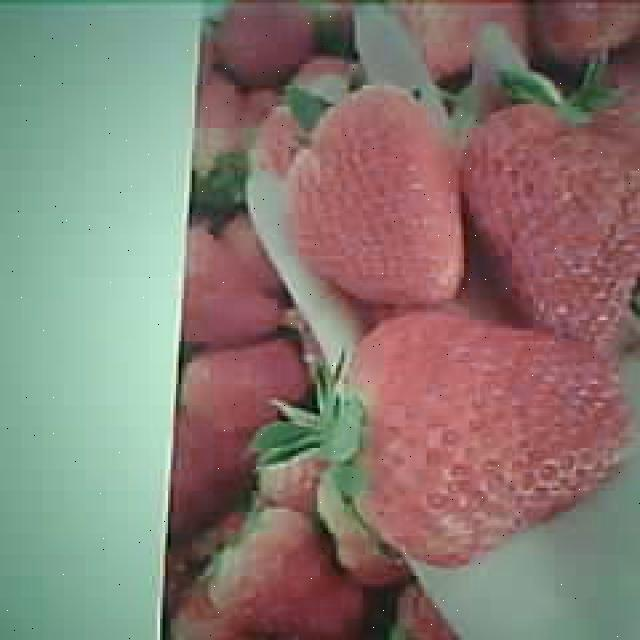ripe: (326, 311, 628, 568), (470, 96, 640, 342), (288, 83, 466, 301), (208, 507, 360, 640)
